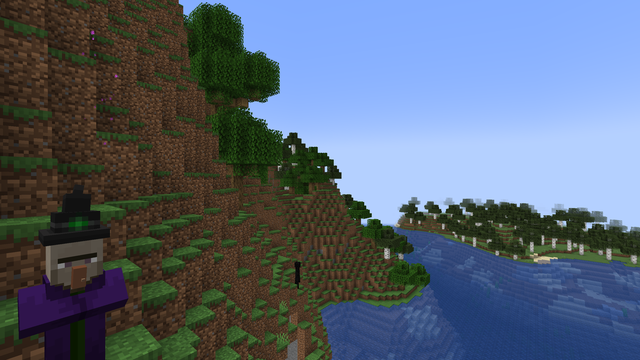endermens: (293, 260, 300, 289)
sorcieres: (38, 226, 109, 359)
